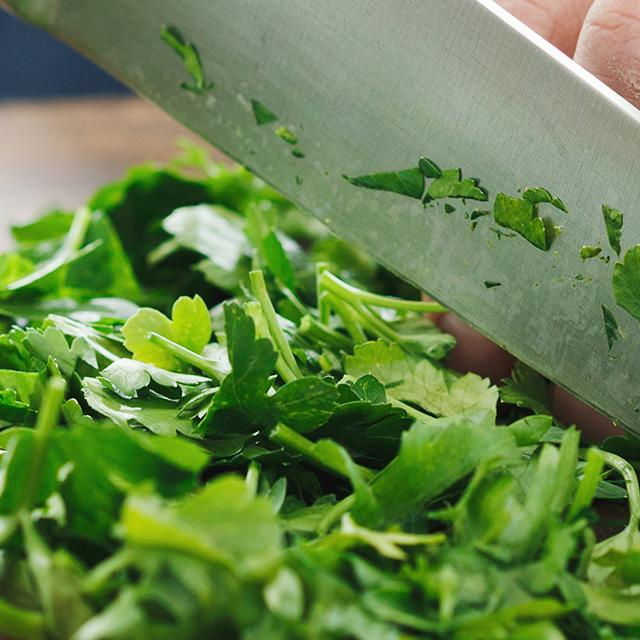cilantro: (0, 166, 640, 640)
